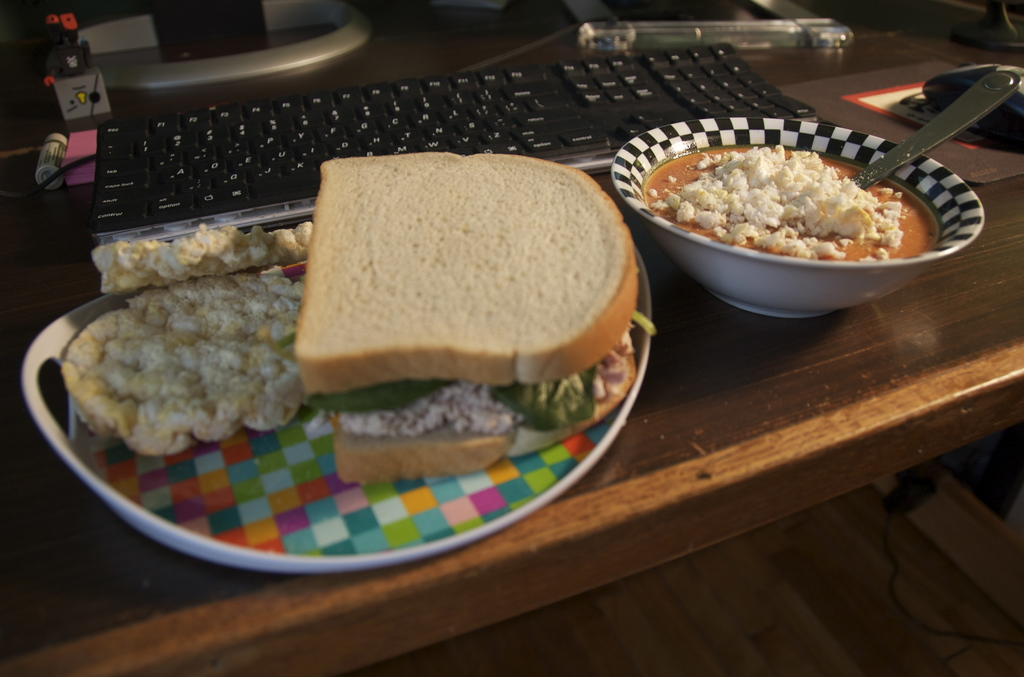sandwich: (282, 156, 642, 479)
